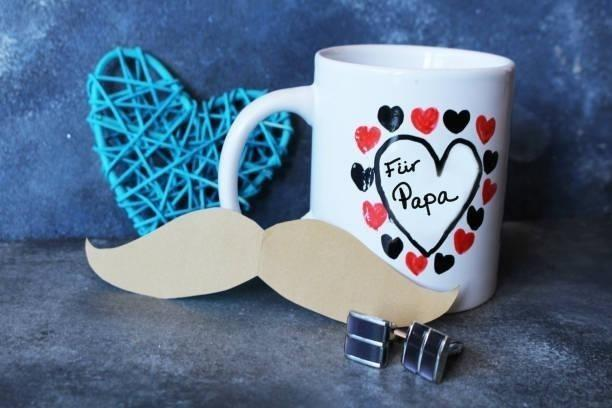cup-handle: (217, 40, 517, 334)
